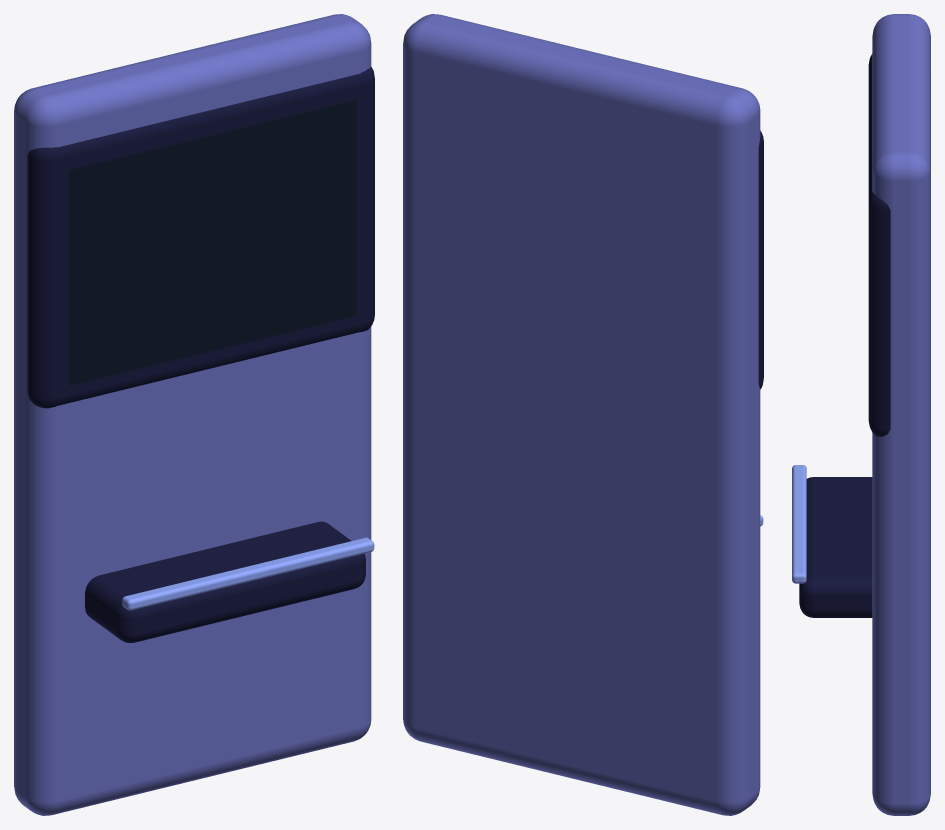
File: windowStation.glb
The picture shows the model from 3 angles, left to right: view 1: azimuth 30°, elevation 25°; view 2: azimuth 150°, elevation 25°; view 3: azimuth 270°, elevation 25°; orthographic projection. The views are drawn at different scales.
Parts seen in each view (by area): view 1: station, plates, plateFrame, cradle, cradleTrim; view 2: station, plateFrame; view 3: station, cradle, plateFrame, cradleTrim.
Boxes of the visible parts, x1,y1,x2,y2 form: station: [14, 14, 371, 815]; plates: [69, 100, 356, 385]; plateFrame: [27, 67, 374, 408]; cradle: [85, 521, 365, 642]; cradleTrim: [122, 537, 374, 610]; station: [403, 14, 760, 815]; plateFrame: [758, 131, 763, 389]; station: [872, 14, 930, 815]; cradle: [799, 477, 872, 617]; plateFrame: [868, 54, 890, 436]; cradleTrim: [792, 465, 806, 583].
Size of the model in its own units: 0.5 by 1 by 0.19.
